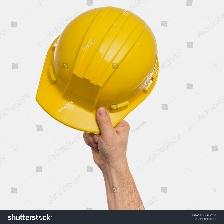helmet: (28, 12, 168, 126)
